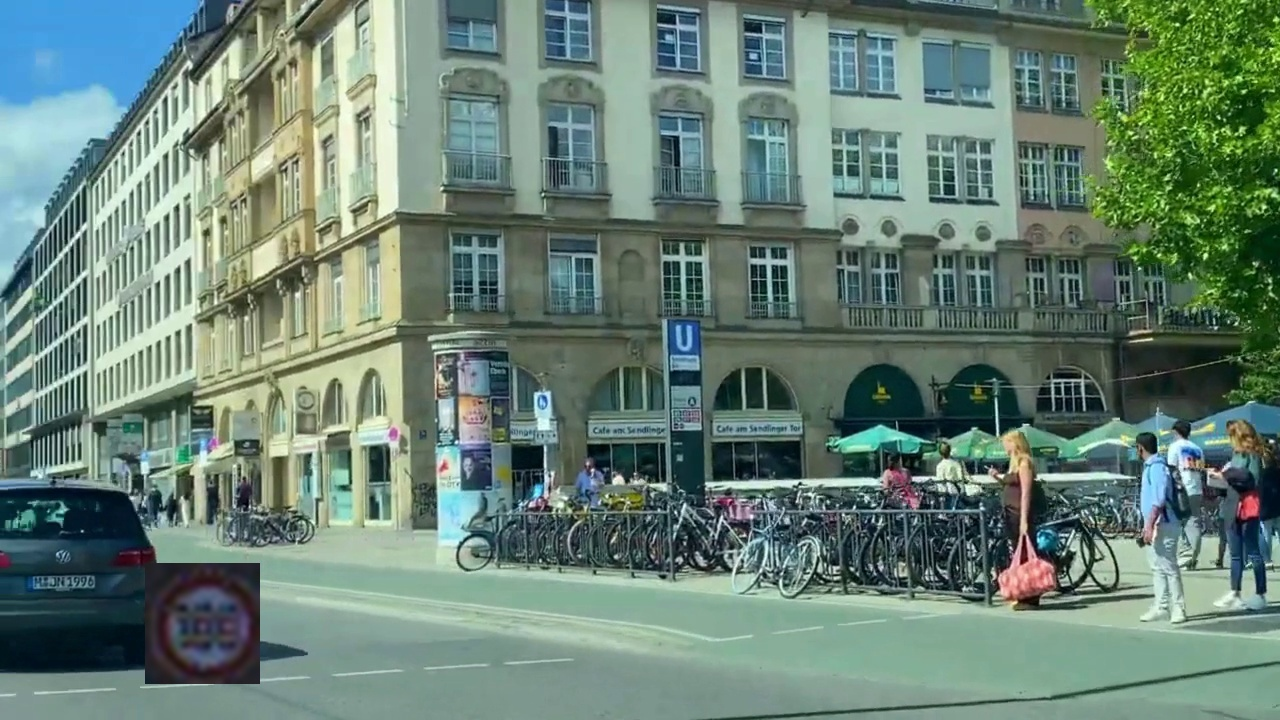Speed 100: (145, 563, 260, 684)
